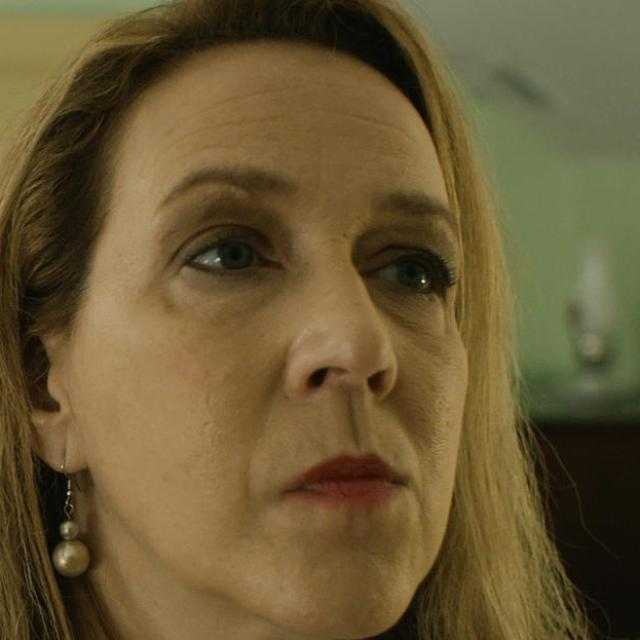Depress: (56, 39, 470, 639)
